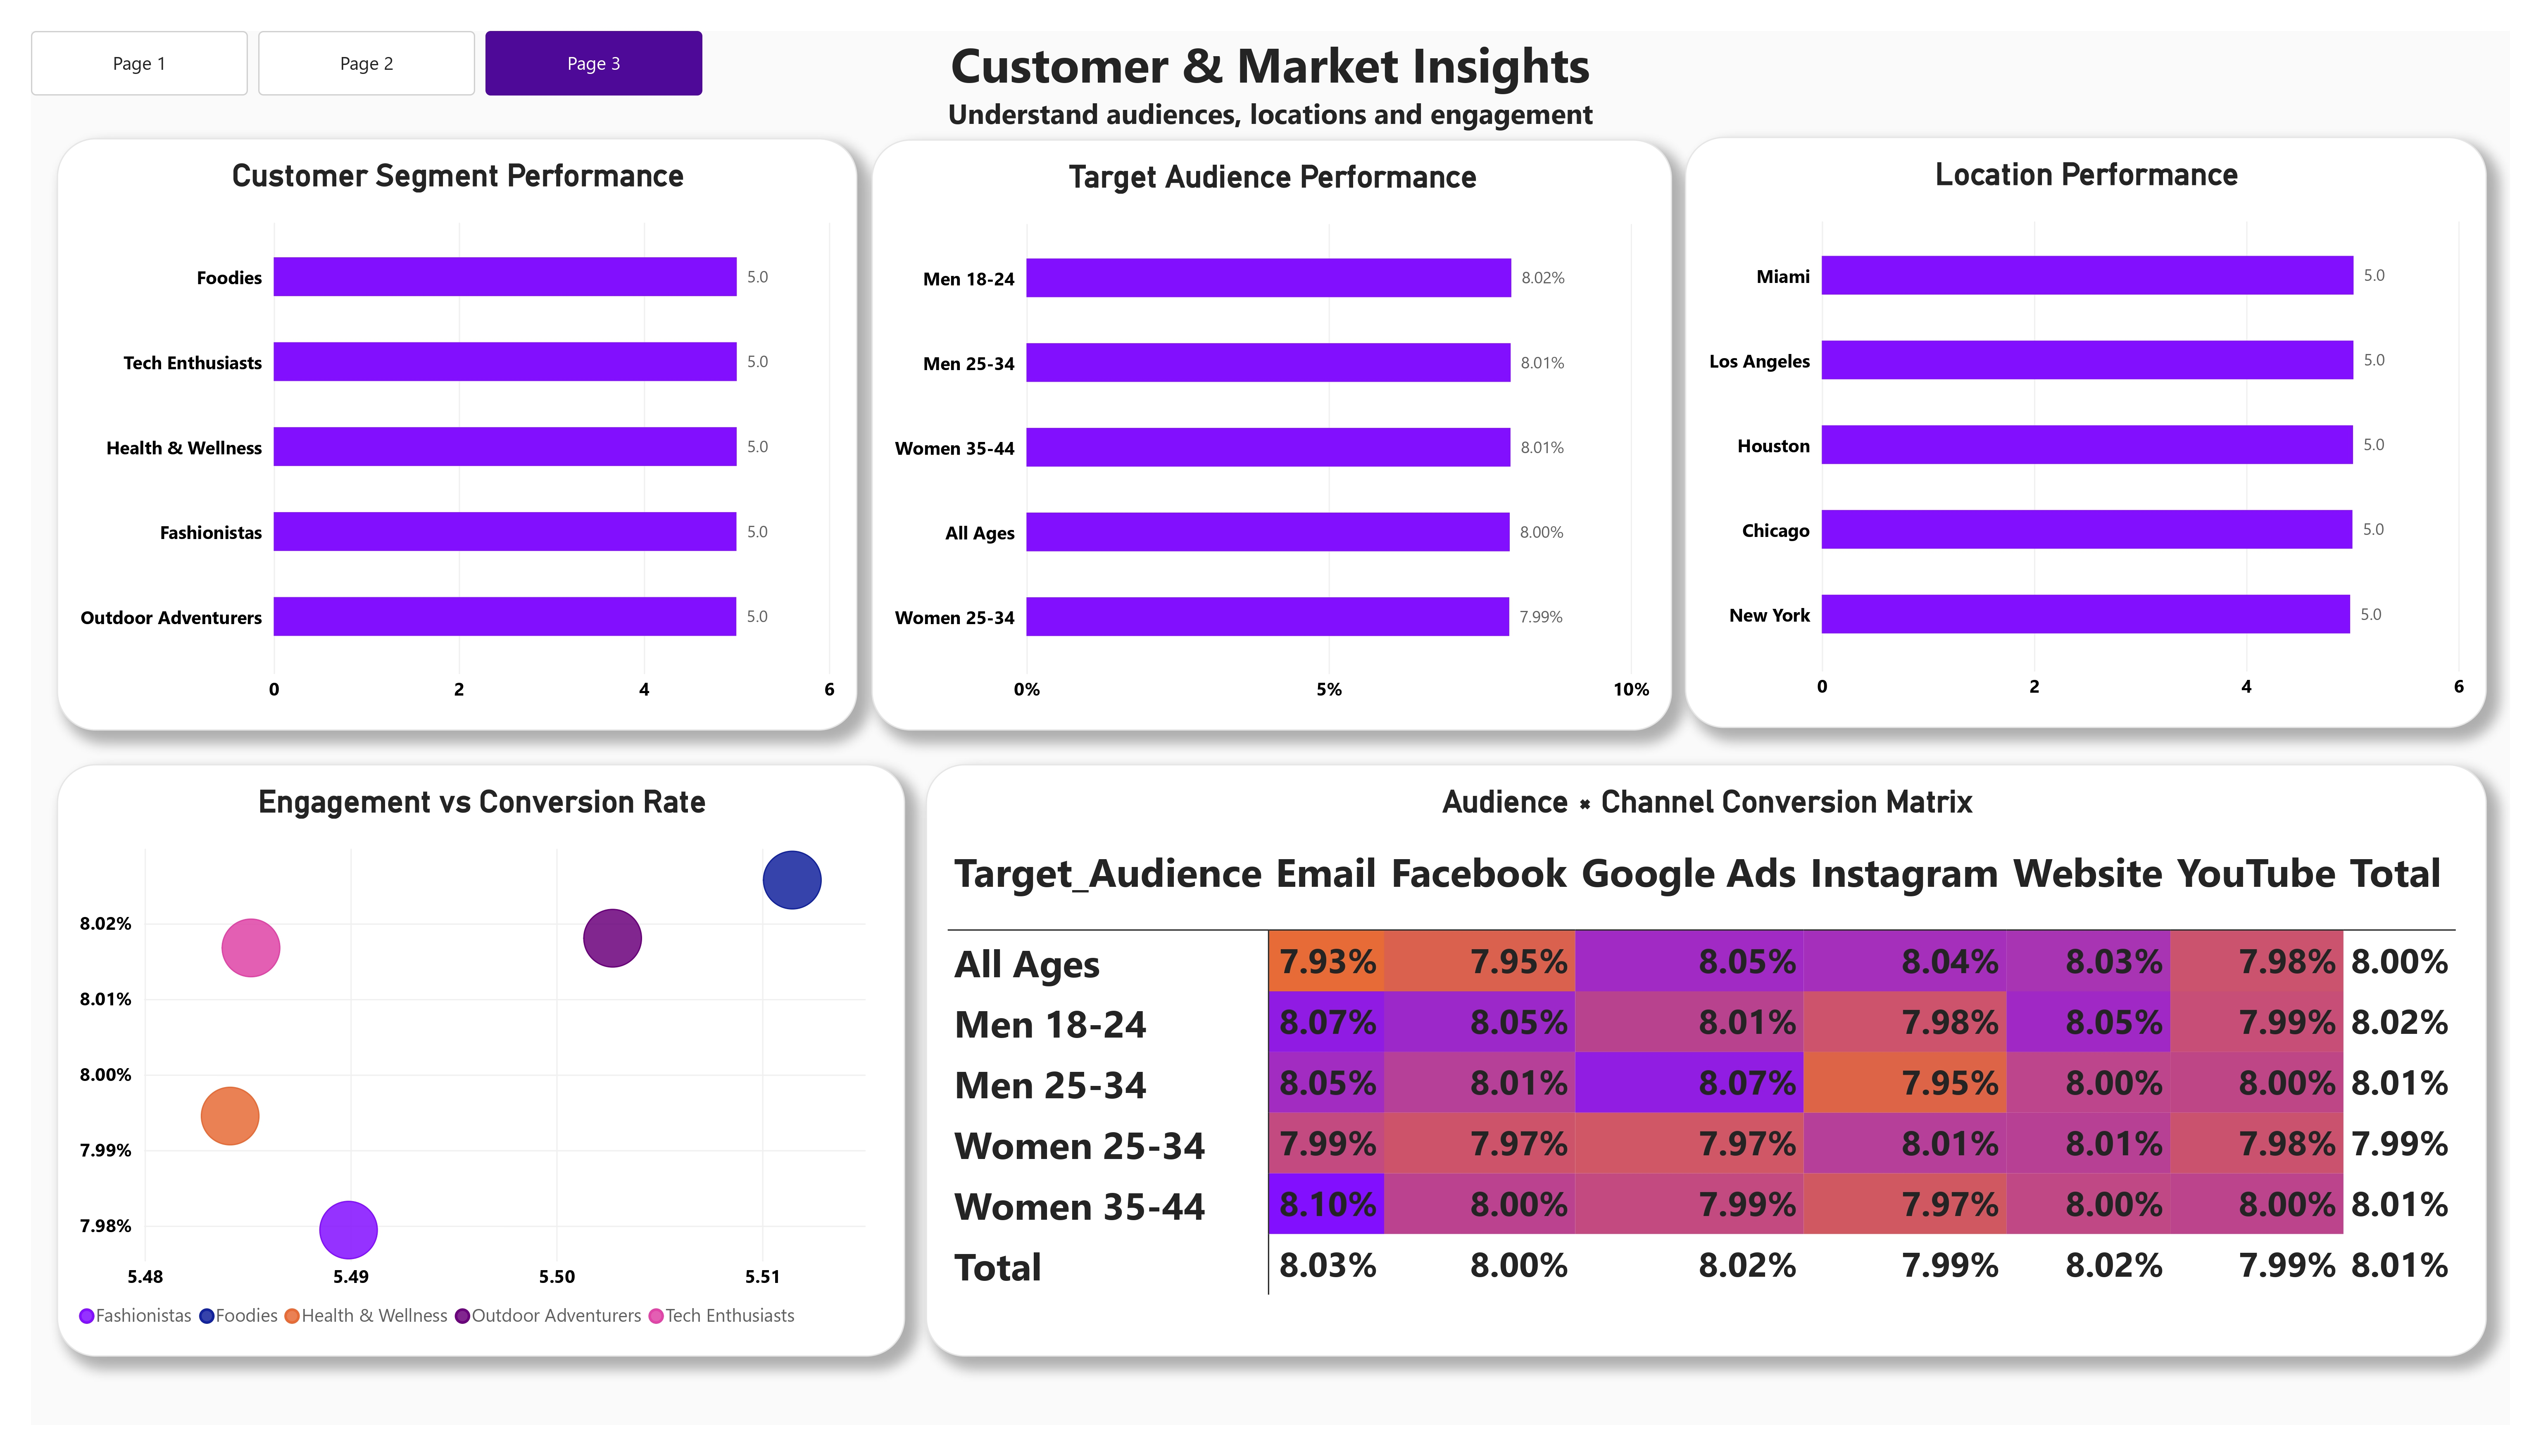

The page's visual inventory and layout, read from the dashboard file:
{"tool":"powerbi","page":{"name":"Page 3","canvas":[1920,1080],"ordinal":2},"visuals":[{"type":"textbox","box":[0,0,1920,82.9],"z":0},{"type":"clusteredBarChart","title":"Customer Segment Performance","fields":{"Category":["marketing_campaign_dataset.Customer_Segment"],"Y":["_Measure.Avg_ROI"]},"box":[19.7,83,620.3,458.5],"z":1000},{"type":"barChart","title":"Target Audience Performance","fields":{"Category":["marketing_campaign_dataset.Target_Audience"],"Y":["_Measure.Avg_Conversion_Rate"]},"box":[650.5,84.4,620.3,457.1],"z":3000},{"type":"clusteredBarChart","title":"Location Performance","fields":{"Category":["marketing_campaign_dataset.Location"],"Y":["_Measure.Avg_ROI"]},"box":[1281.4,81.6,620.3,458.5],"z":4000},{"type":"scatterChart","title":"Engagement vs Conversion Rate","fields":{"Series":["marketing_campaign_dataset.Customer_Segment"],"Size":["_Measure.Total_Clicks"],"X":["Avg(marketing_campaign_dataset.Engagement_Score)"],"Y":["_Measure.Avg_Conversion_Rate"]},"box":[19.7,568.3,656.9,458.5],"z":5000},{"type":"pivotTable","title":"Audience × Channel Conversion Matrix","fields":{"Columns":["marketing_campaign_dataset.Channel_Used"],"Rows":["marketing_campaign_dataset.Target_Audience"],"Values":["_Measure.Avg_Conversion_Rate"]},"box":[693.5,568.3,1208.3,458.5],"z":6000},{"type":"pageNavigator","box":[0,0,520,50],"z":7000}]}

Visuals, with their boxes on the page's 1920x1080 design canvas (x1, y1, x2, y2). These are canvas units, not pixel positions in the 2541x1456 screenshot, which may show the page scaled, cropped or inside an application window:
textbox: 0:0:1920:83
"Customer Segment Performance" clusteredBarChart: 20:83:640:542
"Target Audience Performance" barChart: 650:84:1271:542
"Location Performance" clusteredBarChart: 1281:82:1902:540
"Engagement vs Conversion Rate" scatterChart: 20:568:677:1027
"Audience × Channel Conversion Matrix" pivotTable: 694:568:1902:1027
pageNavigator: 0:0:520:50
